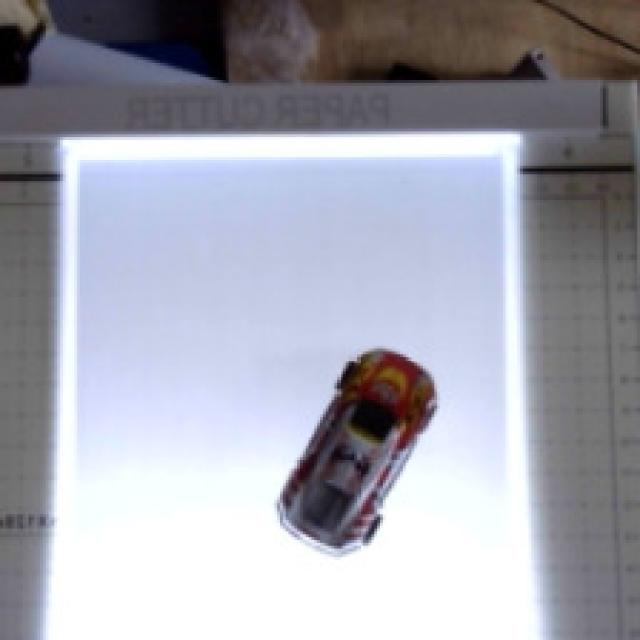Red Car: (200, 336, 537, 567)
